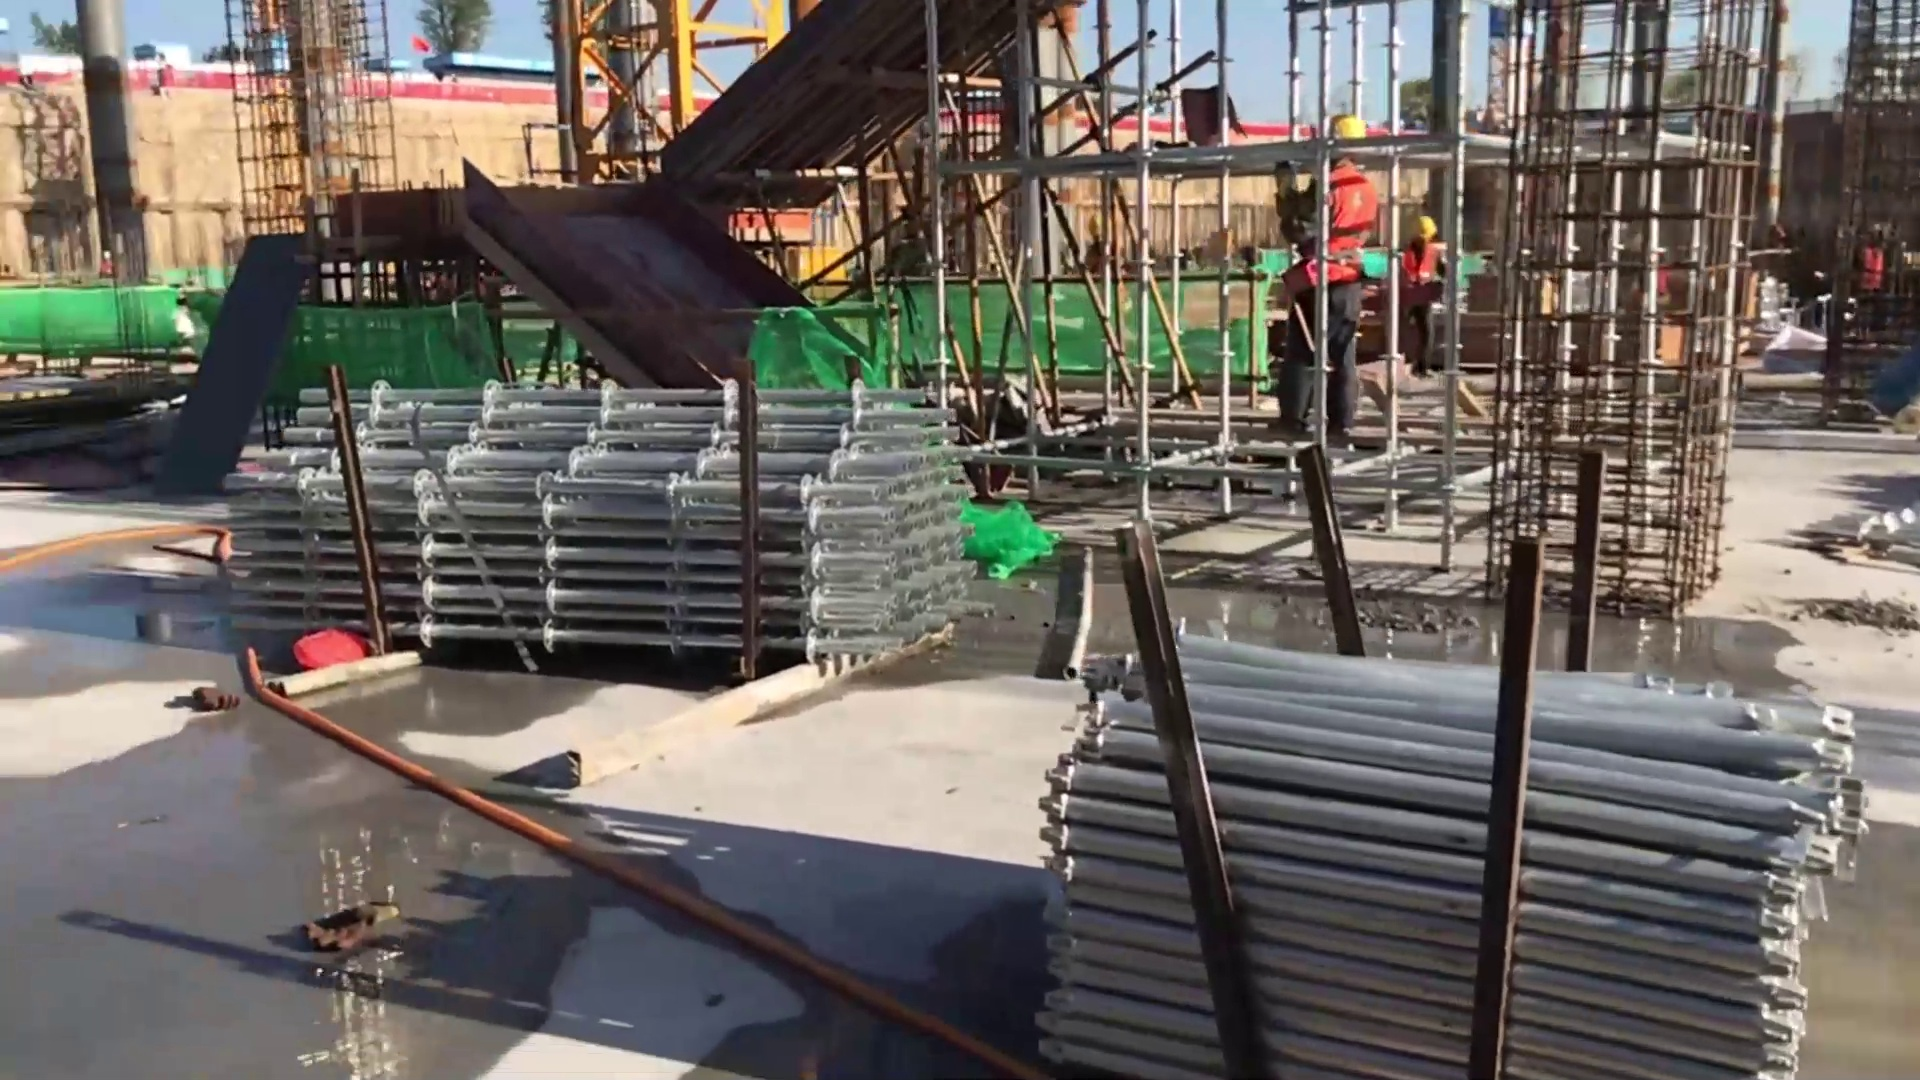person: (1281, 106, 1375, 446), (1388, 215, 1450, 385)
scaffold: (1046, 631, 1848, 1080), (227, 379, 977, 647)
vest: (1305, 168, 1377, 283)
